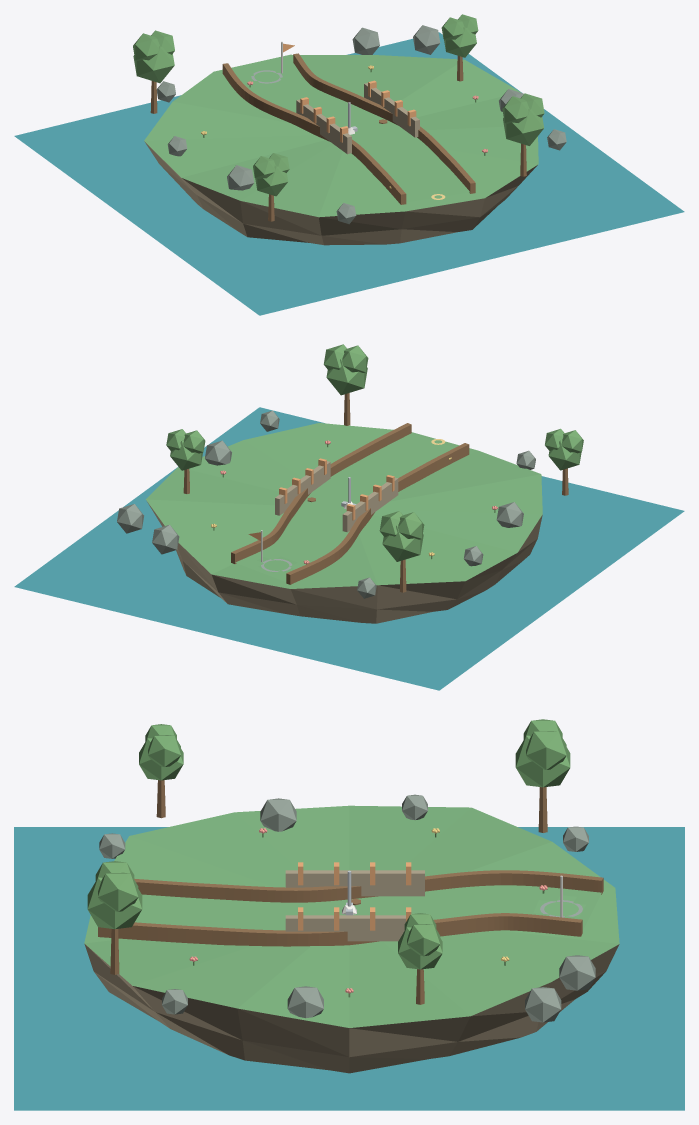
File: course-05.glb
3 views of the same model, one above another, from view 1: azimuth 30°, elevation 25°; view 2: azimuth 150°, elevation 25°; view 3: azimuth 270°, elevation 25° (orthographic). The views are drawn at different scales.
Parts seen in each view (by area): view 1: water-plane.004, island-turf-edge.004, island-rock-plinth.004, surface-grass, rail-left, rail-right, faceted-canopy.051, faceted-canopy.057, bridge-parapet, bridge-parapet.001, faceted-rock.036, faceted-canopy.054 (+5 smaller); view 2: water-plane.004, island-turf-edge.004, island-rock-plinth.004, surface-grass, rail-left, rail-right, bridge-parapet, bridge-parapet.001, faceted-canopy.051, faceted-canopy.057, faceted-rock.036, faceted-rock.039 (+6 smaller); view 3: water-plane.004, island-turf-edge.004, island-rock-plinth.004, surface-grass, rail-right, rail-left, bridge-parapet, bridge-parapet.001, faceted-canopy.057, faceted-canopy.051, faceted-canopy.059, faceted-canopy.053 (+8 smaller).
Boxes of the visible parts, left/top/right/bottom form: water-plane.004: left=14, top=32, right=684, bottom=315; island-turf-edge.004: left=144, top=54, right=538, bottom=217; island-rock-plinth.004: left=144, top=141, right=537, bottom=245; surface-grass: left=233, top=63, right=469, bottom=202; rail-left: left=222, top=63, right=406, bottom=204; rail-right: left=293, top=53, right=475, bottom=193; faceted-canopy.051: left=133, top=46, right=174, bottom=83; faceted-canopy.057: left=503, top=109, right=543, bottom=145; bridge-parapet: left=296, top=99, right=351, bottom=154; bridge-parapet.001: left=364, top=83, right=419, bottom=137; faceted-rock.036: left=413, top=25, right=440, bottom=54; faceted-canopy.054: left=444, top=27, right=476, bottom=57; water-plane.004: left=14, top=407, right=684, bottom=690; island-turf-edge.004: left=146, top=423, right=542, bottom=588; island-rock-plinth.004: left=147, top=502, right=542, bottom=623; surface-grass: left=235, top=433, right=453, bottom=581; rail-left: left=286, top=443, right=469, bottom=584; rail-right: left=231, top=423, right=411, bottom=563; bridge-parapet: left=342, top=477, right=398, bottom=532; bridge-parapet.001: left=275, top=461, right=330, bottom=515; faceted-canopy.051: left=382, top=525, right=423, bottom=561; faceted-canopy.057: left=326, top=358, right=367, bottom=395; faceted-rock.036: left=117, top=504, right=144, bottom=533; faceted-rock.039: left=152, top=524, right=179, bottom=554; water-plane.004: left=14, top=827, right=684, bottom=1110; island-turf-edge.004: left=84, top=805, right=619, bottom=1027; island-rock-plinth.004: left=84, top=944, right=619, bottom=1073; surface-grass: left=135, top=885, right=601, bottom=930; rail-right: left=98, top=913, right=582, bottom=946; rail-left: left=134, top=870, right=603, bottom=902; bridge-parapet: left=285, top=870, right=424, bottom=896; bridge-parapet.001: left=285, top=915, right=405, bottom=941; faceted-canopy.057: left=87, top=877, right=142, bottom=929; faceted-canopy.051: left=515, top=735, right=570, bottom=787; faceted-canopy.059: left=98, top=872, right=138, bottom=911; faceted-canopy.053: left=526, top=731, right=566, bottom=769.
Bounding box in the file's own units: 12.3 × 3.35 × 12.3.
